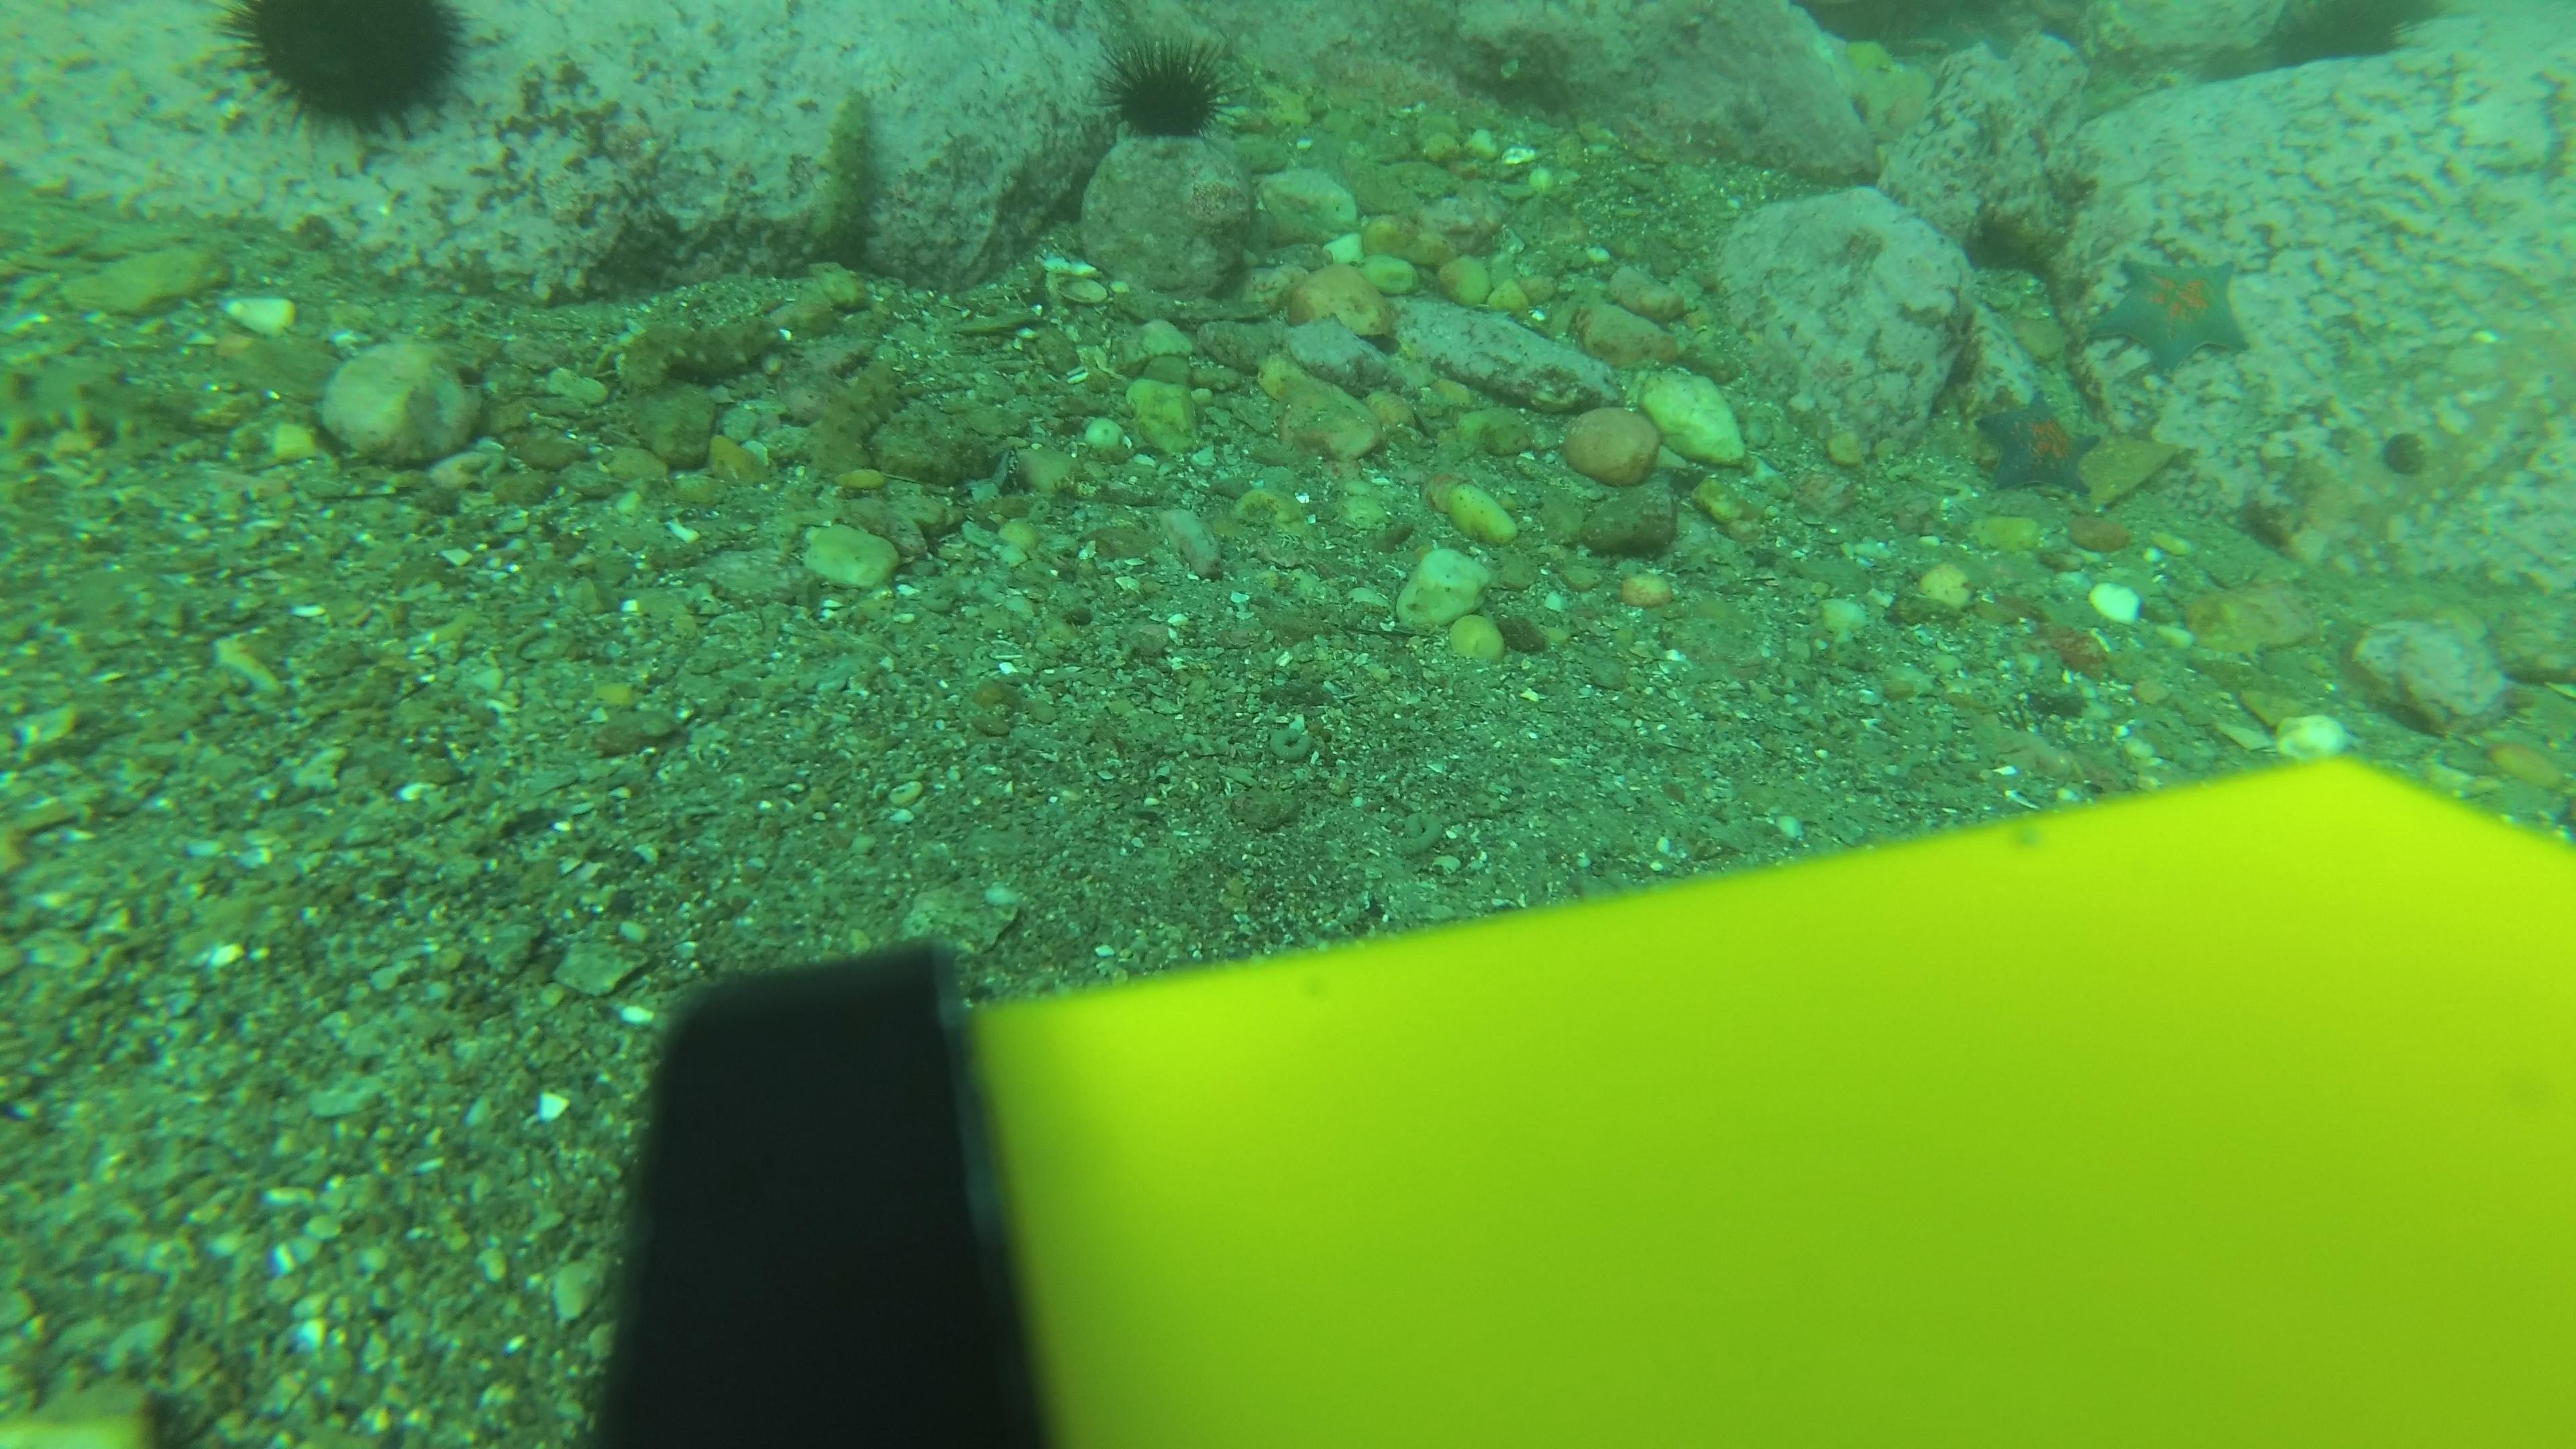echinus: (212, 2, 483, 147), (1100, 34, 1235, 145), (2258, 2, 2431, 74)
holothurian: (2, 347, 221, 465), (793, 81, 892, 274), (796, 347, 920, 488), (610, 306, 800, 391)
starfish: (2091, 242, 2258, 377), (1971, 386, 2104, 499)
